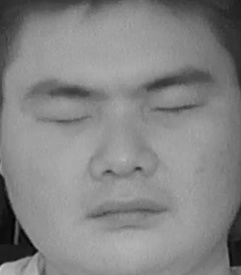blink: (37, 101, 93, 139), (153, 90, 203, 125)
mouth: (80, 186, 170, 236)
